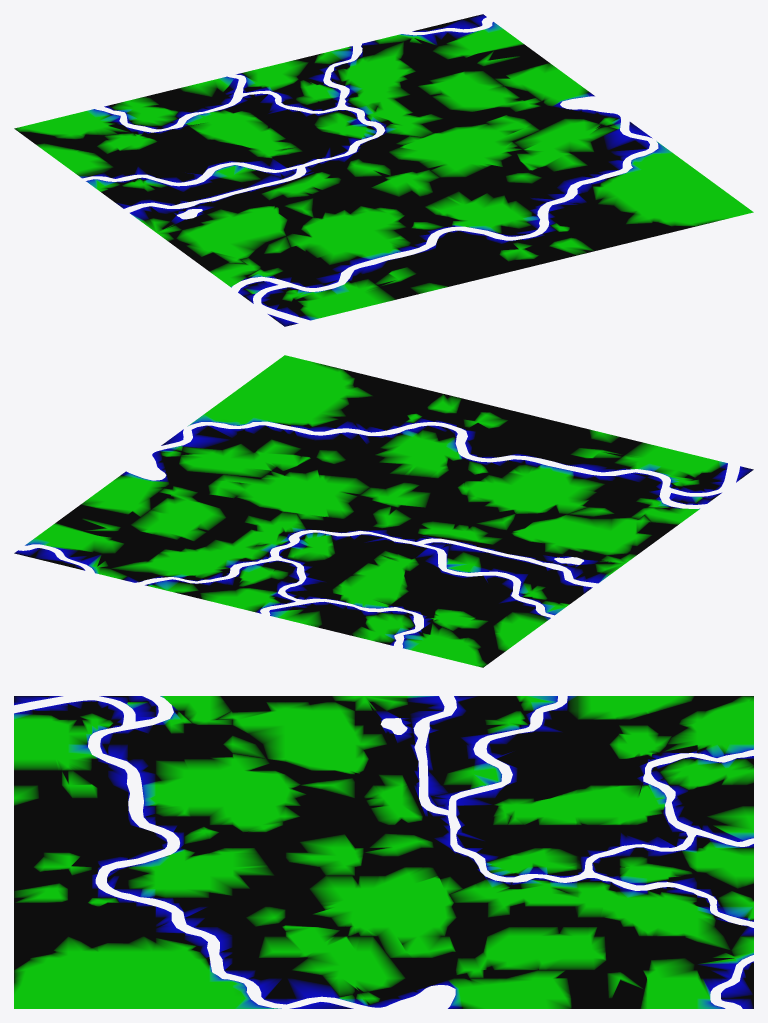
File: SM_Landscape_Colditz_ground_v04.fbx
The picture shows the model from 3 angles, top to bottom: view 1: azimuth 30°, elevation 25°; view 2: azimuth 150°, elevation 25°; view 3: azimuth 270°, elevation 25°; orthographic projection. The views are drawn at different scales.
Visible parts, largest first — view 1: SM_Landscape_Colditz_ground_v04; view 2: SM_Landscape_Colditz_ground_v04; view 3: SM_Landscape_Colditz_ground_v04.
Boxes of the visible parts, box(x1,y1,x2,y2) form: SM_Landscape_Colditz_ground_v04: box(14, 14, 753, 326); SM_Landscape_Colditz_ground_v04: box(14, 355, 753, 667); SM_Landscape_Colditz_ground_v04: box(14, 696, 753, 1008).
Size of the model in its own units: 37500 by 0 by 37500.
